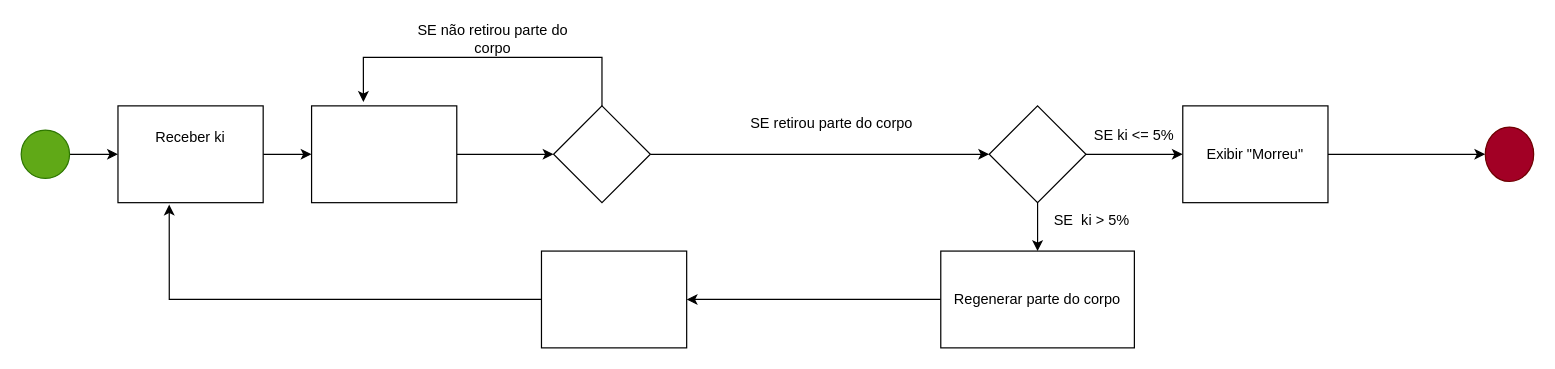
This 1555x369 diagram has some shape labels left out. Here are the shapes that lost their labels. From the top down, the box of each, then its label:
(310, 105, 457, 203): Receber golpe
(540, 250, 687, 348): Atualizar ki ki = ki *0.1
